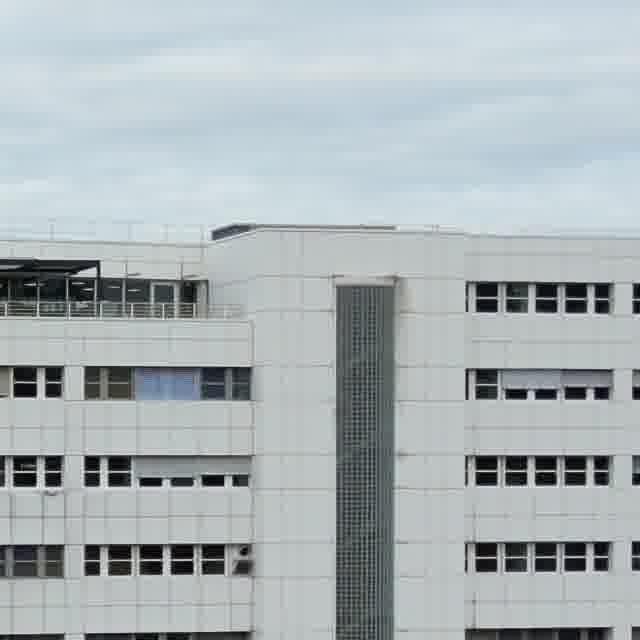Drohne: (45, 490, 59, 495)
